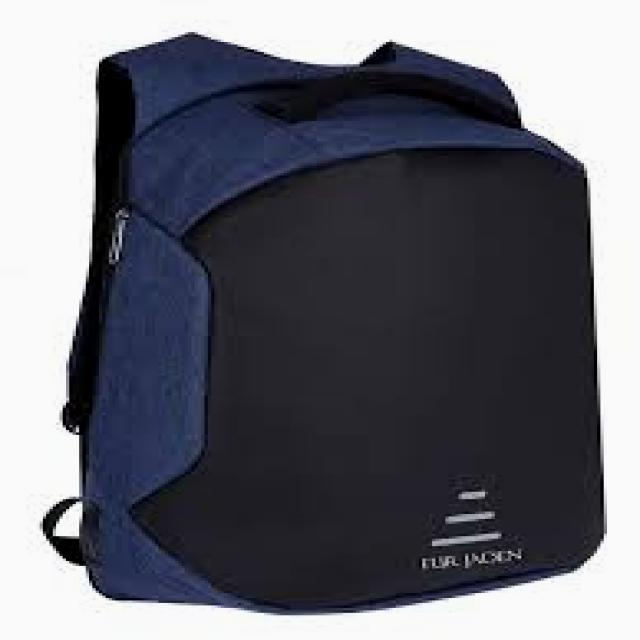backpack: (41, 31, 609, 614)
